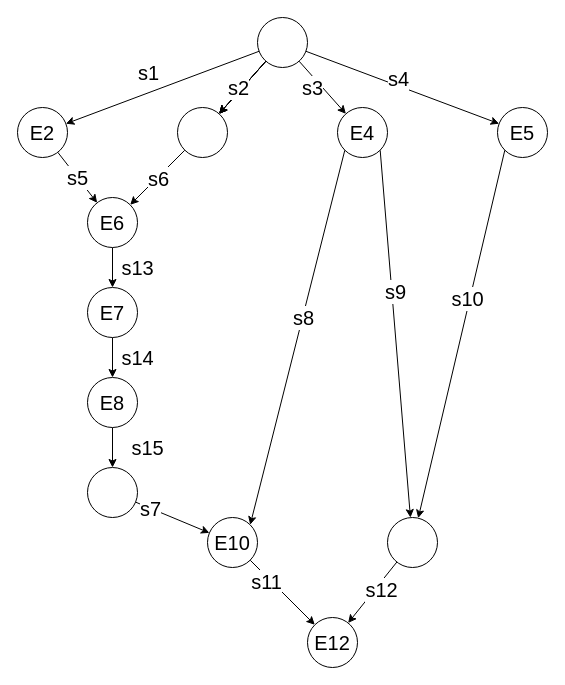
The diagram is 565 pixels wide and 685 high, and some of its shapes have lost their labels. The centre of each missing label's shape, as x and y in pixels:
"E1" belongs at [282,42].
"E11" belongs at [412,542].
"E3" belongs at [202,132].
"E9" belongs at [112,492].
